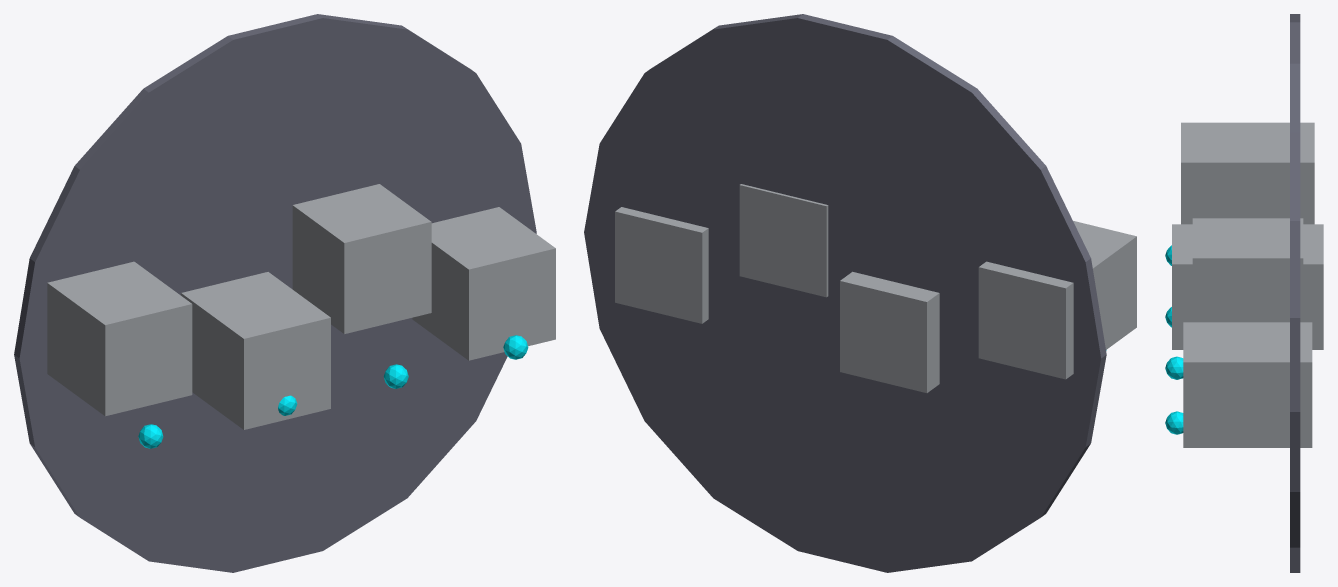
File: 04_event_hazard_cluster.glb
3 renders of one model, left to right at view 1: azimuth 30°, elevation 25°; view 2: azimuth 150°, elevation 25°; view 3: azimuth 270°, elevation 25°, orthographic. The views are drawn at different scales.
Parts seen in each view (by area): view 1: scatter_base, tech_crate_0, tech_crate_1, tech_crate_2, tech_crate_3; view 2: scatter_base, tech_crate_0, tech_crate_1, tech_crate_3, tech_crate_2; view 3: tech_crate_3, tech_crate_0, tech_crate_2, scatter_base, tech_crate_1, status_light_3, status_light_2.
Part boxes in pixels (x1,y1,x2,y2): scatter_base: [14, 14, 536, 572]; tech_crate_0: [47, 261, 192, 416]; tech_crate_1: [181, 272, 330, 429]; tech_crate_2: [292, 184, 431, 333]; tech_crate_3: [412, 207, 555, 360]; scatter_base: [584, 14, 1106, 572]; tech_crate_0: [978, 221, 1136, 379]; tech_crate_1: [840, 271, 939, 392]; tech_crate_3: [615, 207, 708, 323]; tech_crate_2: [739, 184, 828, 297]; tech_crate_3: [1183, 322, 1312, 447]; tech_crate_0: [1181, 122, 1314, 224]; tech_crate_2: [1192, 218, 1303, 322]; scatter_base: [1290, 14, 1300, 572]; tech_crate_1: [1172, 224, 1323, 349]; status_light_3: [1165, 411, 1183, 434]; status_light_2: [1165, 356, 1183, 379].
Size of the model in its own units: 1.9 by 1.87 by 0.537.
